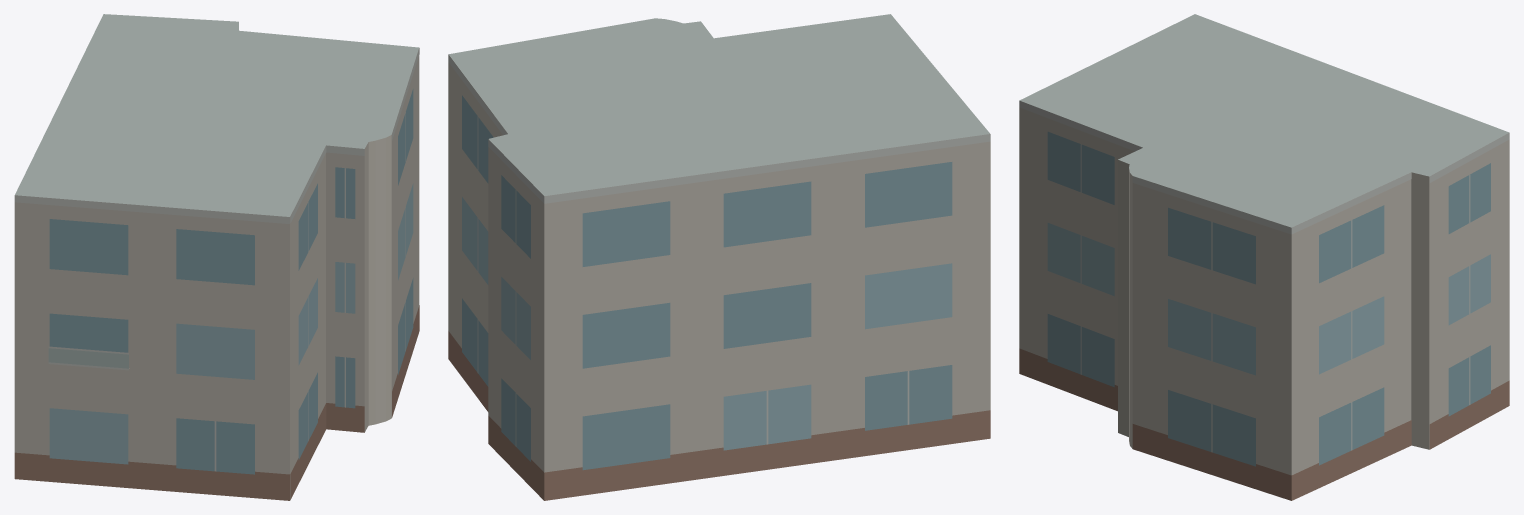
File: survey-upis-32851849.glb
3 views of the same model, side by side, from view 1: azimuth 30°, elevation 25°; view 2: azimuth 150°, elevation 25°; view 3: azimuth 270°, elevation 25° (orthographic). The views are drawn at different scales.
Visible parts, largest first — view 1: survey-upis-32851849.tmp; view 2: survey-upis-32851849.tmp; view 3: survey-upis-32851849.tmp.
Boxes of the visible parts, bbox=[...] form: survey-upis-32851849.tmp: bbox=[14, 14, 419, 500]; survey-upis-32851849.tmp: bbox=[448, 14, 990, 500]; survey-upis-32851849.tmp: bbox=[1019, 14, 1509, 500].
Size of the model in its own units: 16.36 by 9.75 by 15.86.
